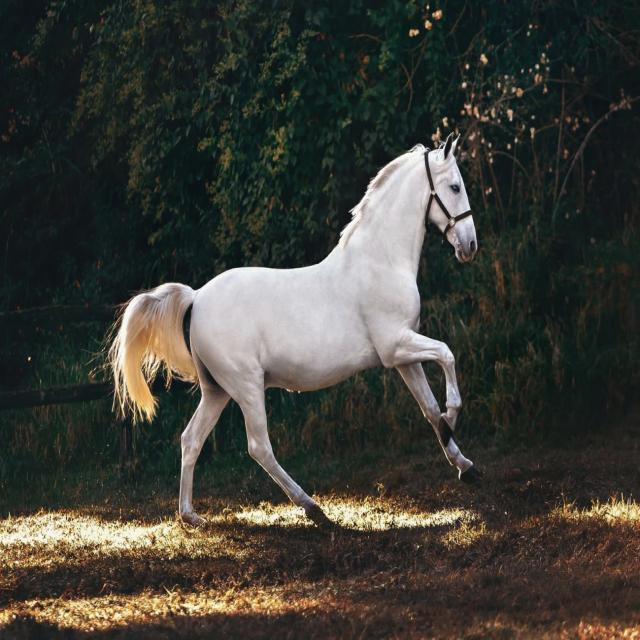horse: (110, 135, 477, 524)
